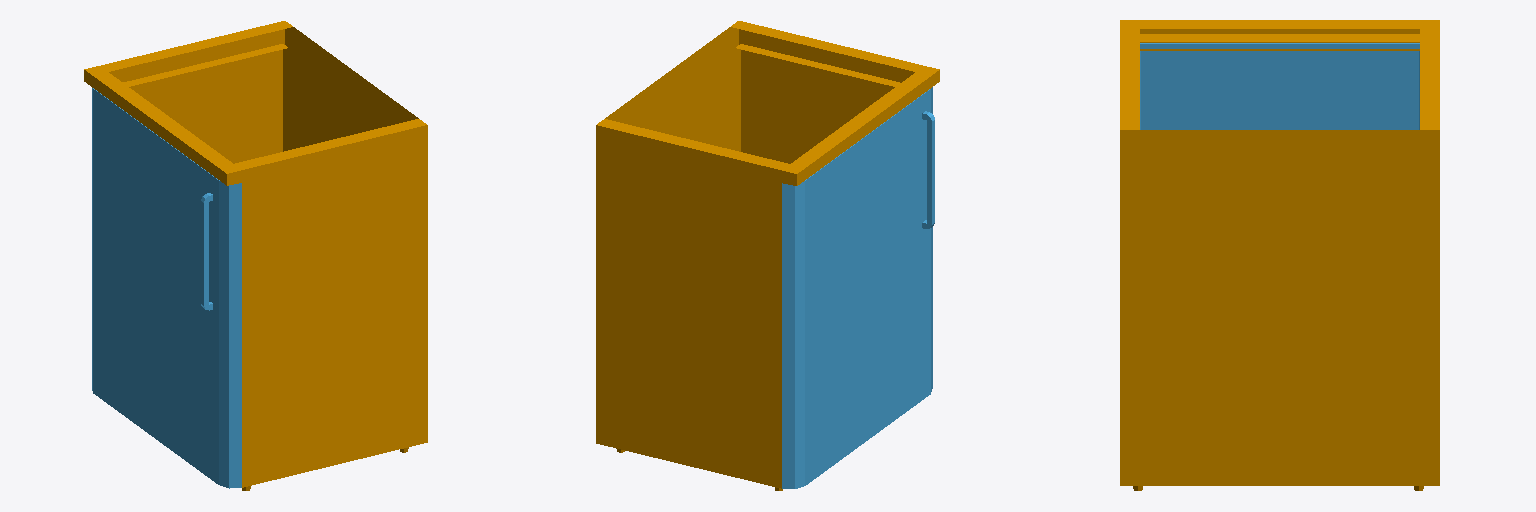
robot.urdf — SinkCabinet:
<robot name="SinkCabinet">
    <link name="corpus">
        <visual>
            <geometry>
                <mesh filename="meshes/corpus.obj"/>
            </geometry>
        </visual>
        <collision>
            <geometry>
                <mesh filename="meshes/corpus.obj"/>
            </geometry>
        </collision>
    </link>
    <link name="door">
        <visual>
            <geometry>
                <mesh filename="meshes/door.obj"/>
            </geometry>
        </visual>
        <collision>
            <geometry>
                <mesh filename="meshes/door.obj"/>
            </geometry>
        </collision>
    </link>

    <joint name="door_hinge" type="revolute">
        <origin xyz="0.0 0.0 0.0" rpy="0.0 0.0 0.0"/>
        <parent link="corpus"/>
        <child link="door"/>
        <axis xyz="0.0 0.0 -1.0"/>
        <limit lower="0.0" upper="2.0944" effort="100.0" velocity="100.0"/>
    </joint>
</robot>

--- Facts derived from the render (not from the file) ---
The picture shows the robot from 3 angles, left to right: view 1: azimuth 30°, elevation 25°; view 2: azimuth 150°, elevation 25°; view 3: azimuth 270°, elevation 25°; orthographic projection.
Robot: SinkCabinet — 2 links, 1 joints (1 revolute); root link corpus; default pose: all joints at 0.
Visible links, largest first — view 1: corpus, door; view 2: corpus, door; view 3: corpus, door.
Link boxes in pixels (x1,y1,x2,y2): corpus: (84,21,427,490); door: (92,88,241,488); corpus: (596,21,939,490); door: (782,87,934,488); corpus: (1120,20,1439,490); door: (1140,43,1419,129).
Size in the robot's own frame: 0.0979 by 0.1152 by 0.1463 metres.
2 mesh visuals loaded from 2 distinct referenced files (2 OBJ).